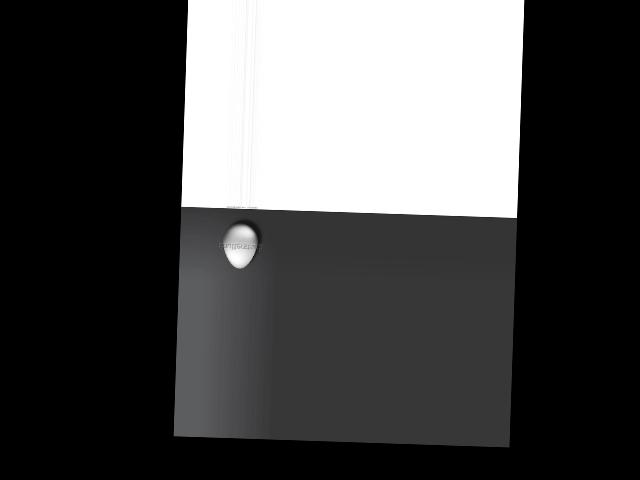egg: (222, 223, 258, 269)
